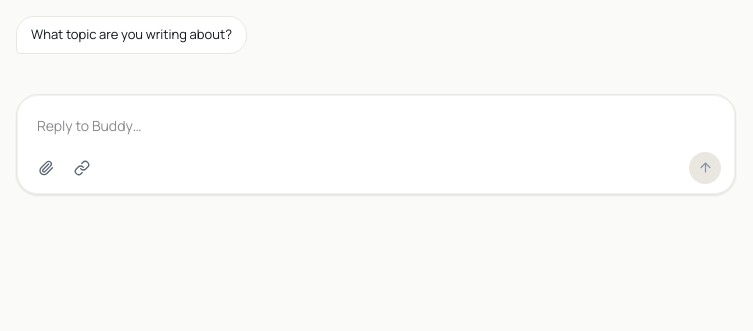
Scenario: Interview › sends user message and displays next AI reply
Expected: the text "What topic are you writing about?" is shown, [16,16,247,54]
In the text box: (376, 125) [31,106,721,144], type "Quantum computing"
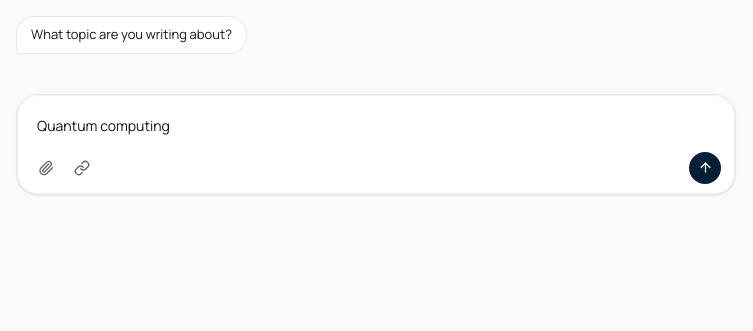
Click the button named "send": click(705, 168) [689,152,721,184]
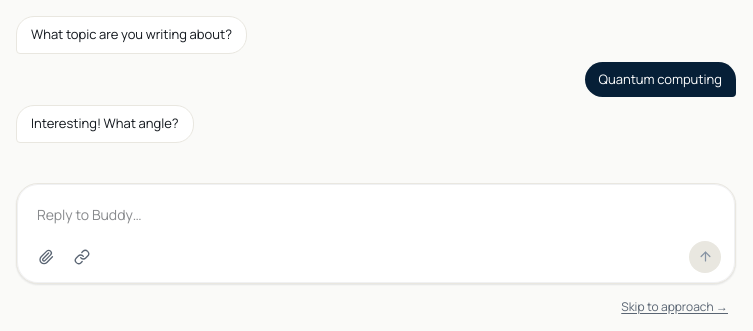
Result: the text "Interesting! What angle?" is shown at [16,105,194,142]
